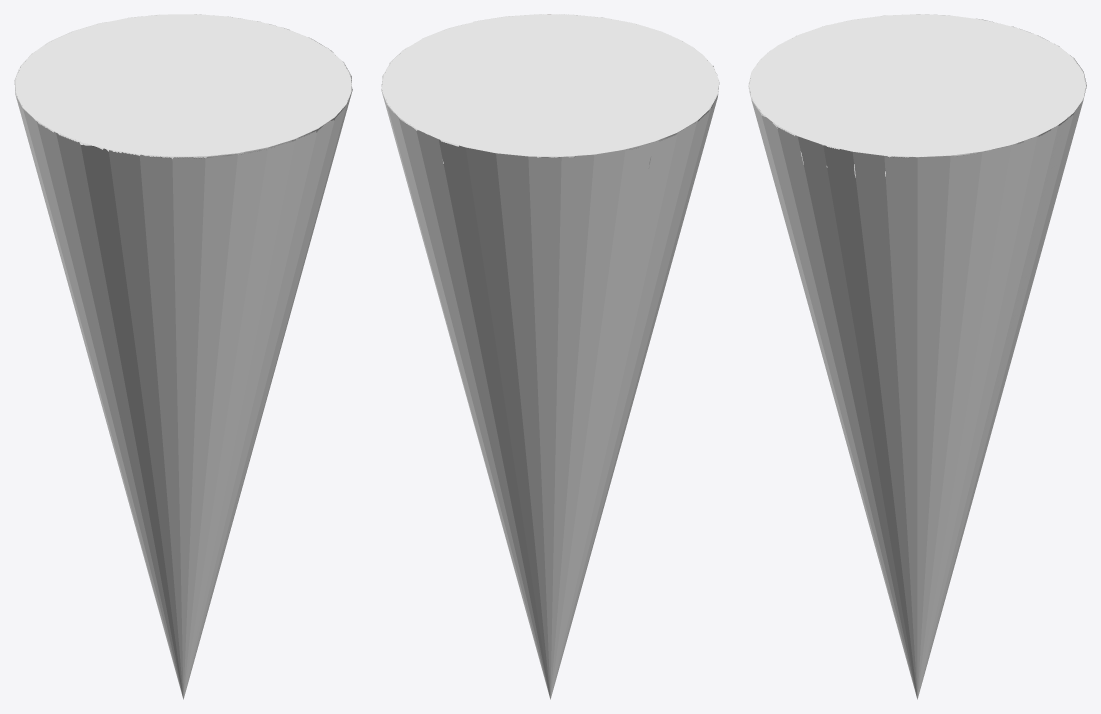
Rendered from playerBody.obj.
3 views of the same model, side by side, from view 1: azimuth 30°, elevation 25°; view 2: azimuth 150°, elevation 25°; view 3: azimuth 270°, elevation 25° (orthographic).
Visible parts, largest first — view 1: 立方体.001; view 2: 立方体.001; view 3: 立方体.001.
Part boxes in pixels (bbox=[...]): 立方体.001: bbox=[14, 14, 352, 699]; 立方体.001: bbox=[381, 14, 719, 699]; 立方体.001: bbox=[748, 14, 1086, 699].
Size of the model in its own units: 2 by 4 by 2.
1 material, 1 textured.
